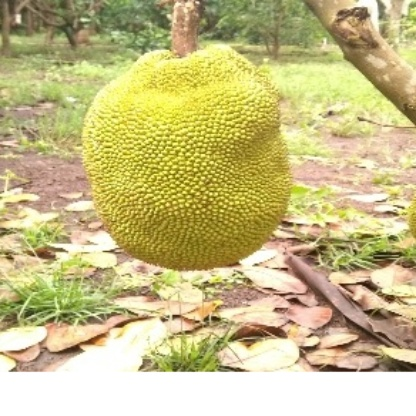mit: (76, 25, 300, 280)
